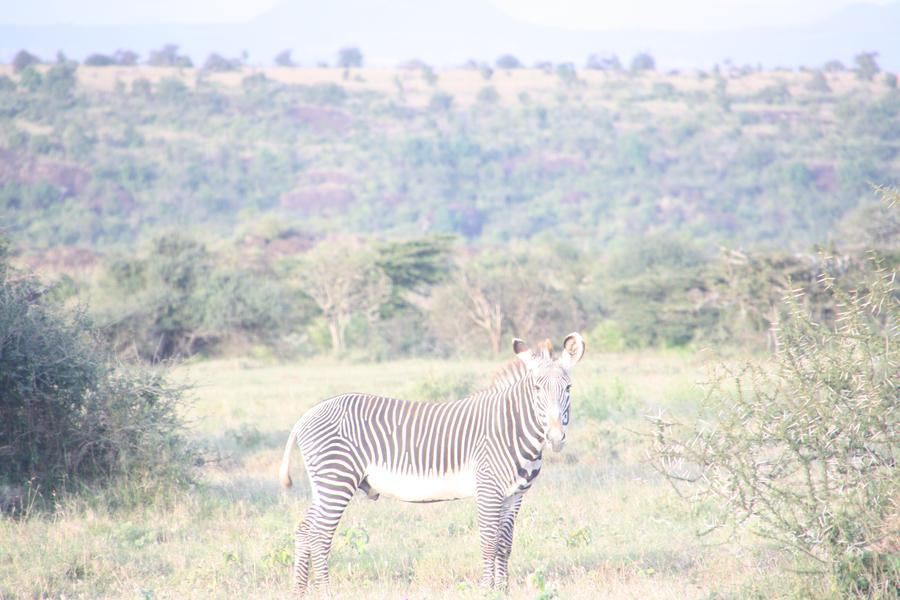zebra_grevys: (303, 393, 516, 494)
